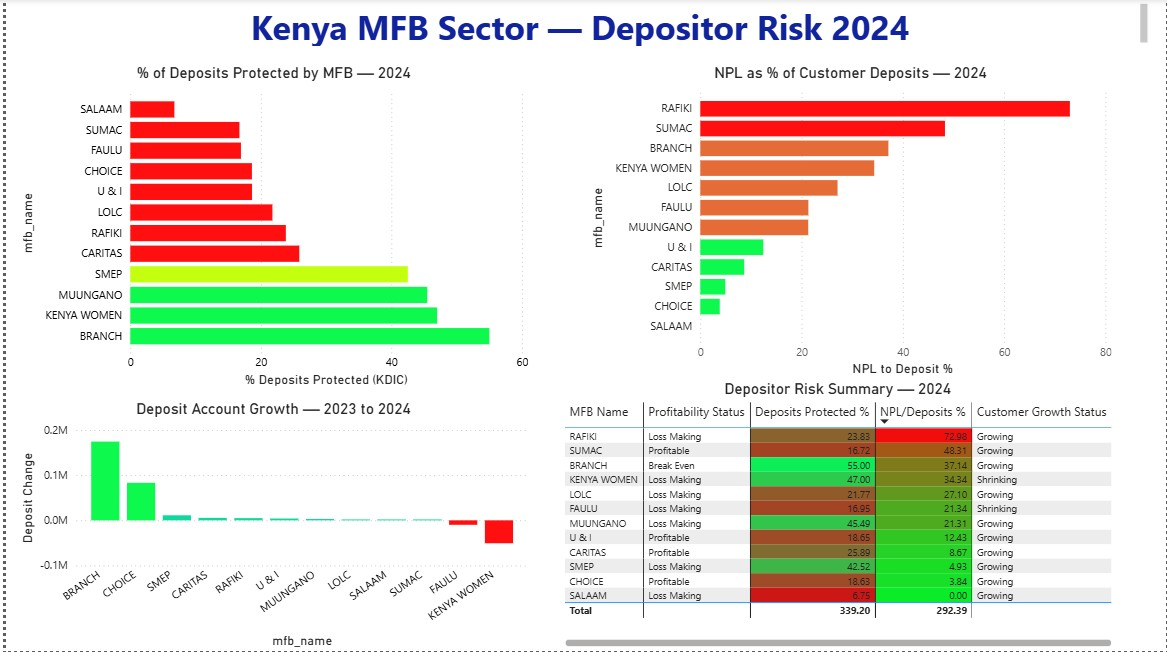

What the dashboard file says about the page in this screenshot:
{"tool":"powerbi","page":{"name":" Depositor Risk","canvas":[1280,720],"ordinal":2},"visuals":[{"type":"textbox","box":[9.9,0,1255.6,56.3],"z":0},{"type":"clusteredBarChart","title":"% of Deposits Protected by MFB — 2024","fields":{"Category":["kenya_mfb_2024 vw_mfb_dashboard.mfb_name"],"Y":["Sum(kenya_mfb_2024 vw_mfb_dashboard.pct_deposits_protected)"]},"box":[9.9,71.2,571.5,361.1],"z":1000},{"type":"clusteredBarChart","title":"NPL as % of Customer Deposits — 2024","fields":{"Category":["kenya_mfb_2024 vw_mfb_dashboard.mfb_name"],"Y":["Sum(kenya_mfb_2024 vw_mfb_dashboard.npl_to_deposits_pct)"]},"box":[639.4,71.2,586.4,349.5],"z":2000},{"type":"clusteredColumnChart","title":"Deposit Account Growth — 2023 to 2024","fields":{"Category":["kenya_mfb_2024 vw_mfb_dashboard.mfb_name"],"Y":["Sum(kenya_mfb_2024 vw_mfb_dashboard.deposit_account_change)"]},"box":[10,442,571,278],"z":3000},{"type":"tableEx","title":"Depositor Risk Summary — 2024","fields":{"Values":["kenya_mfb_2024 vw_mfb_dashboard.mfb_name","kenya_mfb_2024 vw_mfb_dashboard.profitability_status","Sum(kenya_mfb_2024 vw_mfb_dashboard.pct_deposits_protected)","Sum(kenya_mfb_2024 vw_mfb_dashboard.npl_to_deposits_pct)","kenya_mfb_2024 vw_mfb_dashboard.customer_growth_status"]},"box":[611.2,420.7,614.6,299.8],"z":4000}]}

Visuals, with their boxes in screenshot pixels (x1, y1, x2, y2), scaled from the page's 1280x720 canvas onto the 1167x652 screenshot:
textbox: x1=9, y1=0, x2=1154, y2=51
"% of Deposits Protected by MFB — 2024" clusteredBarChart: x1=9, y1=64, x2=530, y2=391
"NPL as % of Customer Deposits — 2024" clusteredBarChart: x1=583, y1=64, x2=1118, y2=381
"Deposit Account Growth — 2023 to 2024" clusteredColumnChart: x1=9, y1=400, x2=530, y2=651
"Depositor Risk Summary — 2024" tableEx: x1=557, y1=381, x2=1118, y2=651
